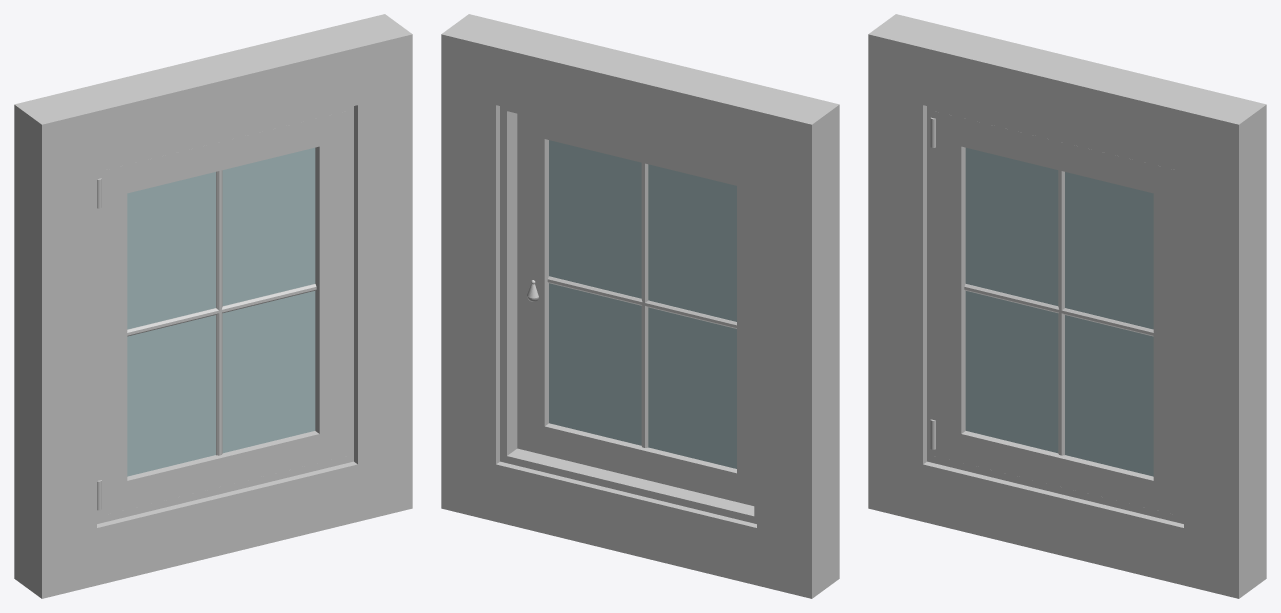
Rendered from Mighty Luulia-Lahdi.glb.
3 renders of one model, left to right at view 1: azimuth 30°, elevation 25°; view 2: azimuth 150°, elevation 25°; view 3: azimuth 330°, elevation 25°, orthographic.
Visible parts, largest first — view 1: Mesh_Mesh_head_geo.001_lambert2SG.001; view 2: Mesh_Mesh_head_geo.001_lambert2SG.001; view 3: Mesh_Mesh_head_geo.001_lambert2SG.001.
Boxes of the visible parts, x1=… form: Mesh_Mesh_head_geo.001_lambert2SG.001: x1=14, y1=14, x2=412, y2=598; Mesh_Mesh_head_geo.001_lambert2SG.001: x1=441, y1=14, x2=839, y2=598; Mesh_Mesh_head_geo.001_lambert2SG.001: x1=868, y1=14, x2=1266, y2=598.
Bounding box in the file's own units: 0.054 × 0.066 × 0.007.
